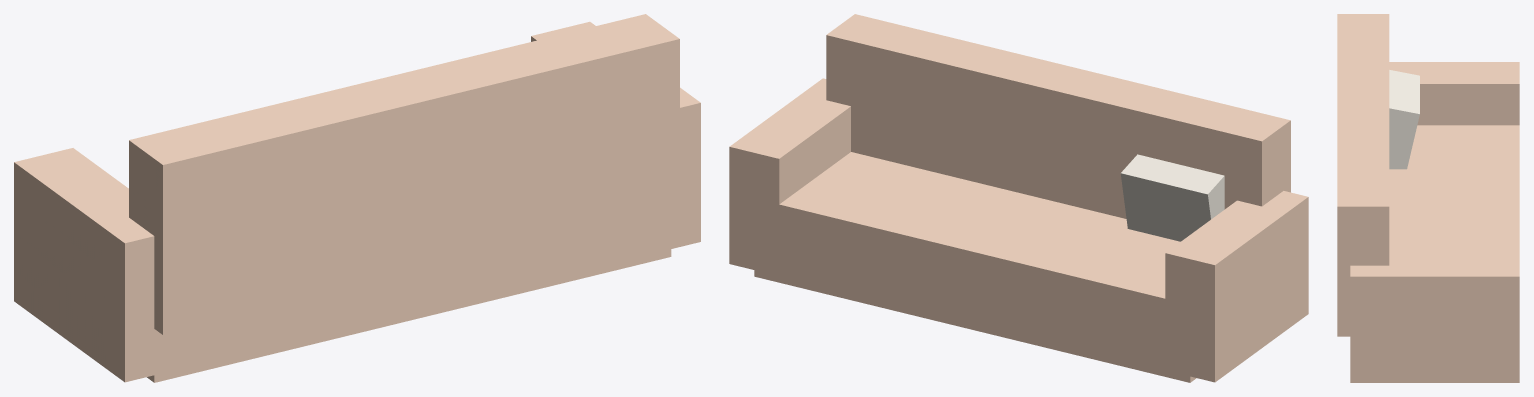
Rendered from Sofa.glb.
The picture shows the model from 3 angles, left to right: view 1: azimuth 30°, elevation 25°; view 2: azimuth 150°, elevation 25°; view 3: azimuth 270°, elevation 25°; orthographic projection. The views are drawn at different scales.
Parts seen in each view (by area): view 1: Sofa_0; view 2: Sofa_0, Sofa_1; view 3: Sofa_0, Sofa_1.
Boxes of the visible parts, box(x1,y1,x2,y2) form: Sofa_0: box(14, 14, 700, 382); Sofa_0: box(729, 14, 1308, 382); Sofa_1: box(1120, 154, 1224, 241); Sofa_0: box(1337, 14, 1519, 382); Sofa_1: box(1389, 70, 1419, 169).
Bounding box in the file's own units: 7.8 × 2.9 × 2.8.
